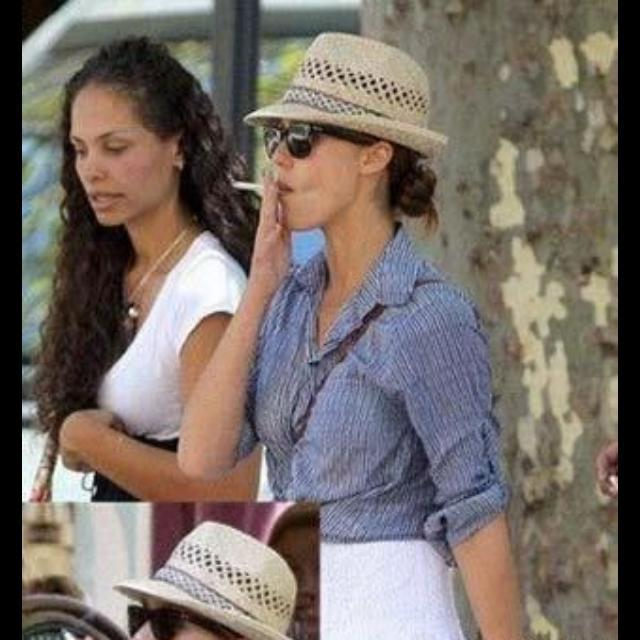rokok: (230, 172, 274, 202)
